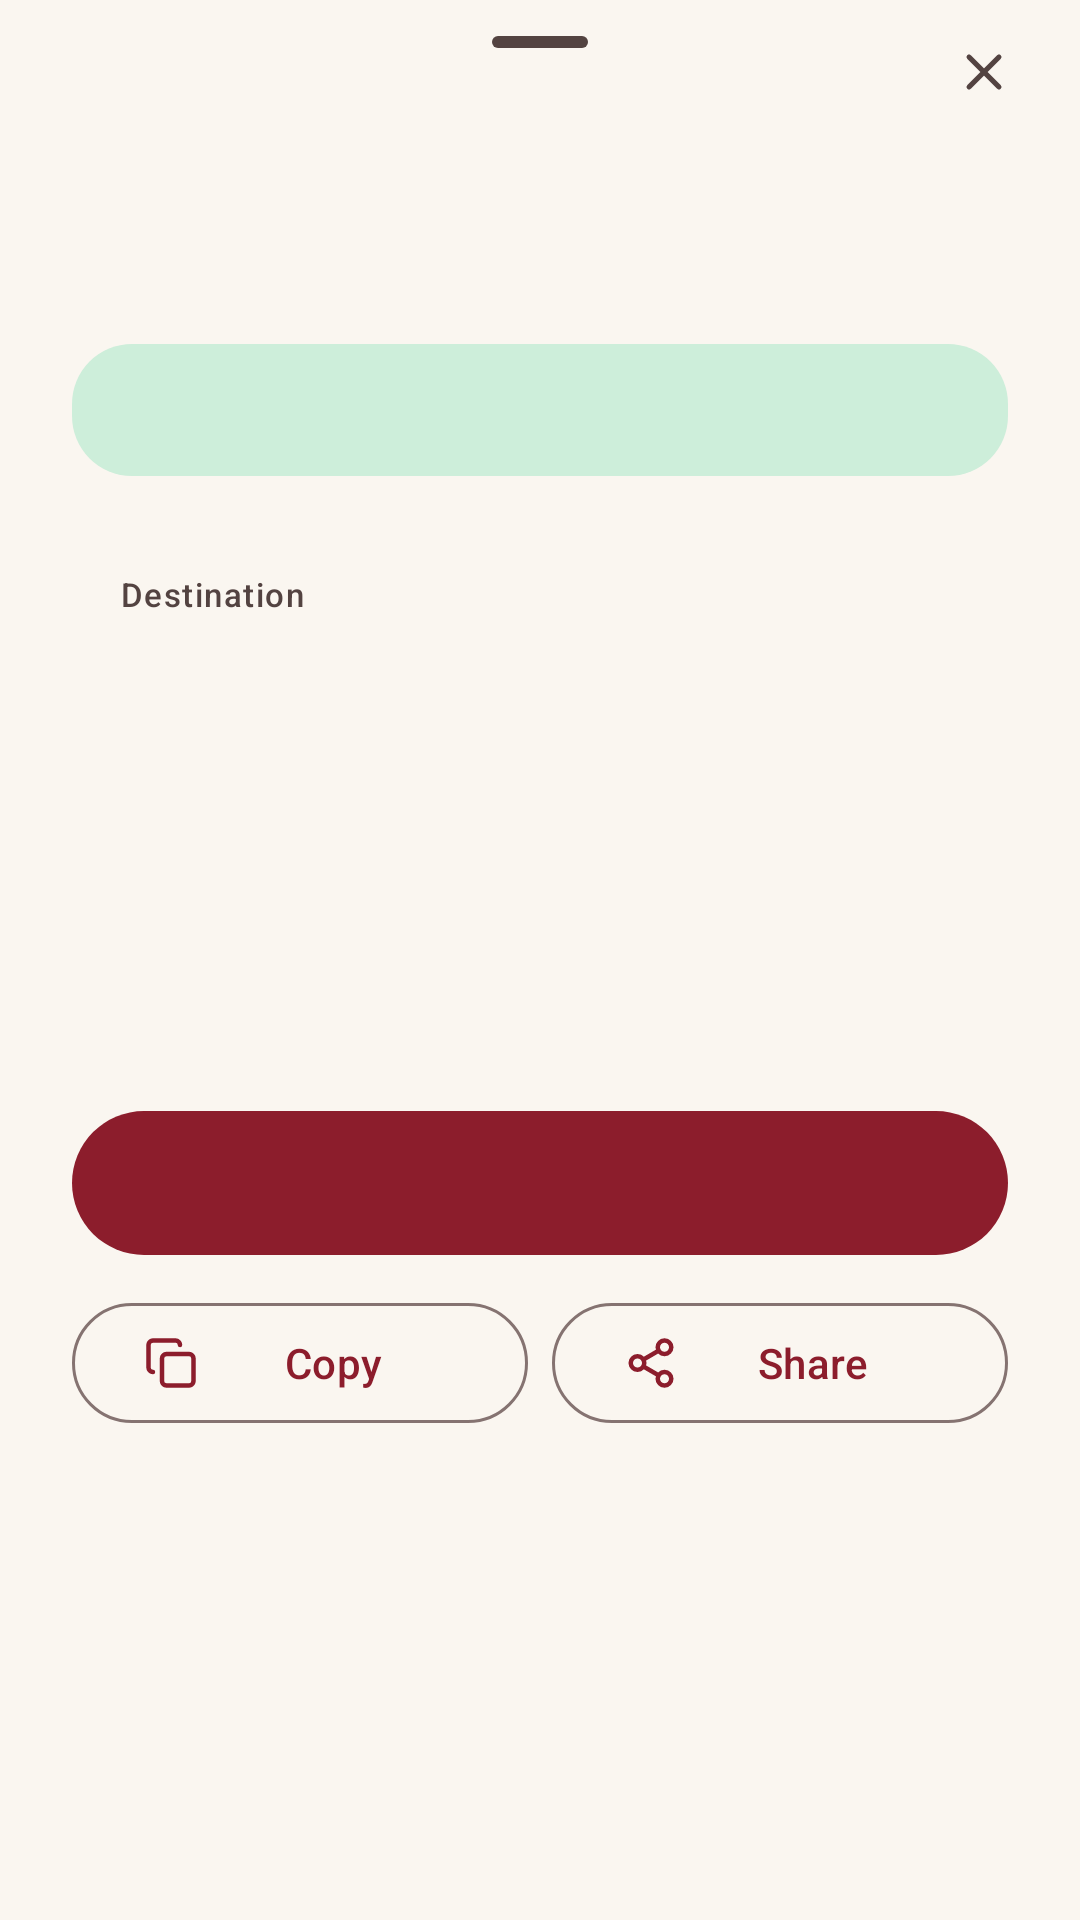

Icons on this 1080px×1920px Android screen, each with the point to tap as (x,y):
Close: (984,72)
